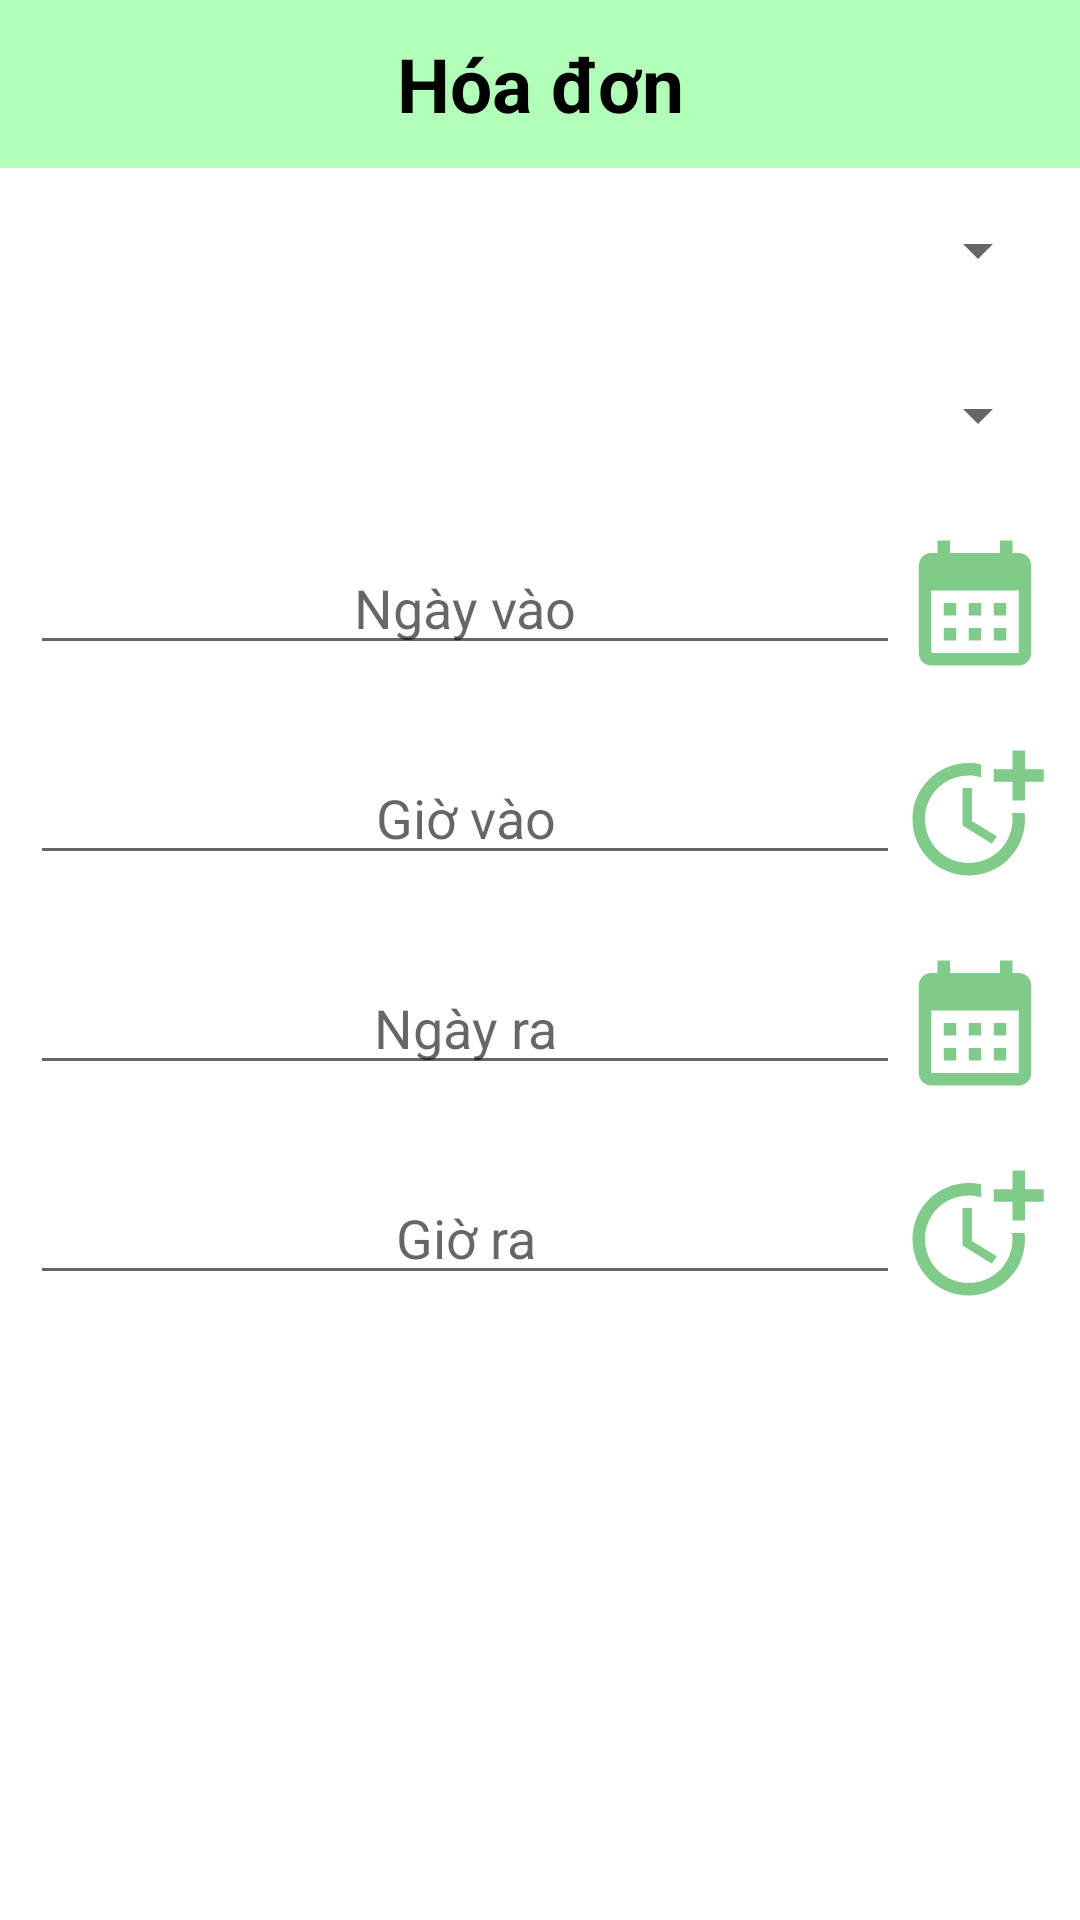

Locate icon controls on the screen. Image size 1080*1920, boxes as BBox(x1, y1, x2, y2).
calendar: BBox(918, 540, 1032, 666), BBox(918, 960, 1032, 1086)
clock: BBox(912, 750, 1044, 876), BBox(912, 1170, 1044, 1296)
